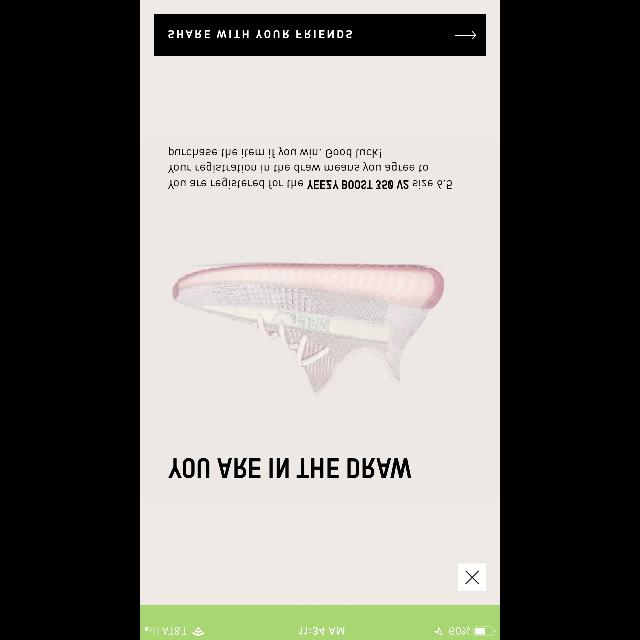icon: (458, 563, 486, 591), (456, 31, 476, 39)
image: (173, 262, 445, 396)
text: (168, 147, 452, 189), (168, 458, 412, 478)
textbutton: (154, 14, 486, 56)
uppertaskbar: (140, 626, 500, 640)
